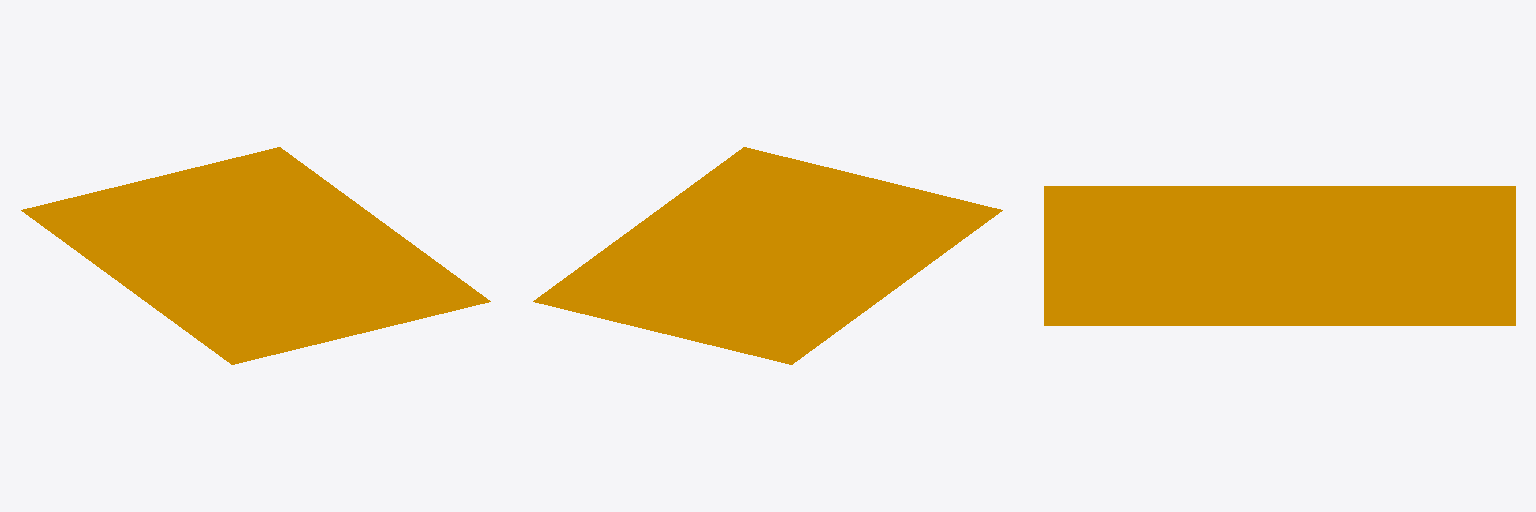
robot.urdf — robot1:
<?xml version="1.0"?>
<robot name="robot1">

    <link name="map">
            <visual>
                <origin rpy="0 0 0" xyz="-10 -20 0"/>
                    <geometry>
                        <mesh filename="package://text_navigation/meshes/map.dae"/>
                    </geometry>
            </visual>
        <collision>
            <geometry>
                    <box size="0.1 .1 .1"/>
            </geometry>
        </collision>
        <inertial>
            <mass value="1"/>
            <inertia ixx="1.0" ixy="0.0" ixz="0.0" iyy="1.0" iyz="0.0" izz="1.0"/>
        </inertial>


  </link>
</robot>

--- Render facts (derived) ---
Views: 3 orthographic renders of the robot side by side, from view 1: azimuth 30°, elevation 25°; view 2: azimuth 150°, elevation 25°; view 3: azimuth 270°, elevation 25°.
Robot: robot1 — 1 links, 0 joints (none); root link map; default pose: every joint at zero.
Links seen in each view (by area): view 1: map; view 2: map; view 3: map.
Link boxes in pixels (x1,y1,x2,y2): map: (21, 147, 490, 364); map: (533, 147, 1002, 364); map: (1044, 186, 1515, 325).
Bounding box of the posed robot: 27.94 × 39.47 × 0 m (x, y, z).
Meshes: 1 distinct files referenced, 1 mesh visuals loaded (1 Collada DAE).
